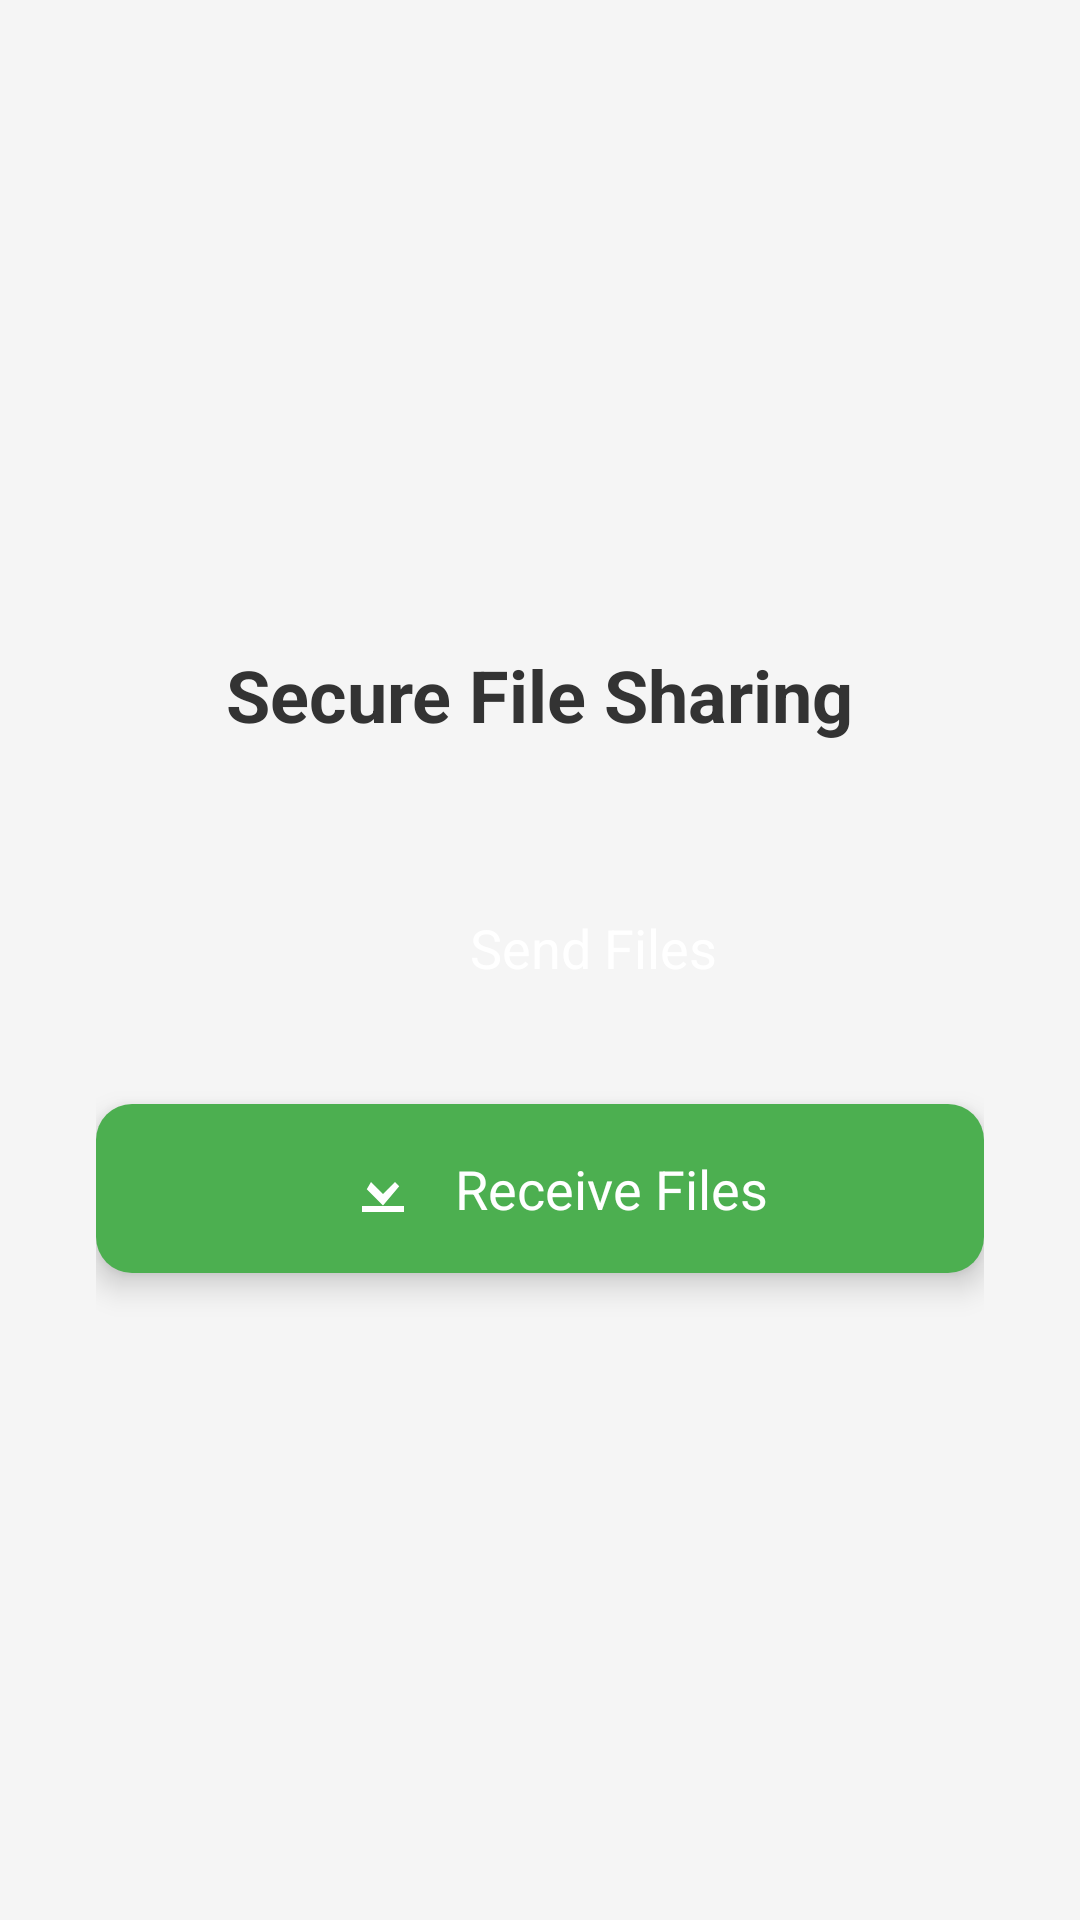

Named icons in this screenshot (1080 × 1920) and their bounding boxes, [x1=x1, y1=y1, x2=x2, y2=y2]:
download: [x1=362, y1=1182, x2=404, y2=1212]
